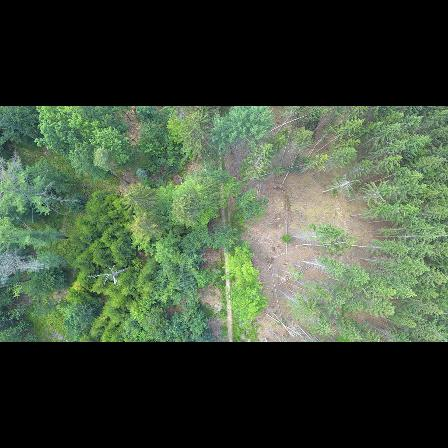Dead: (0, 248, 56, 285), (86, 262, 132, 287)
